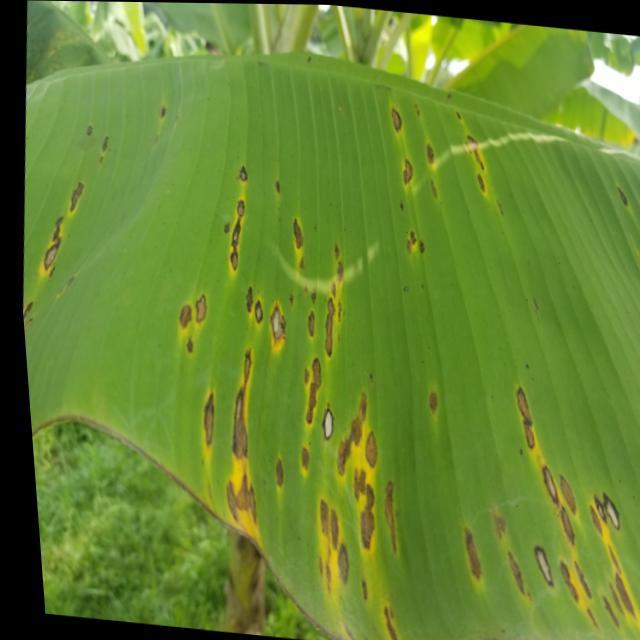Early_rust: (16, 92, 640, 640)
